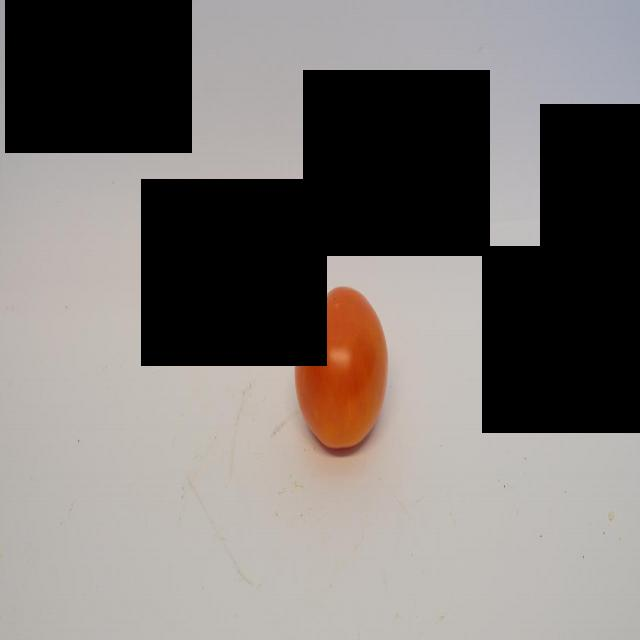tomato: (294, 283, 389, 455)
